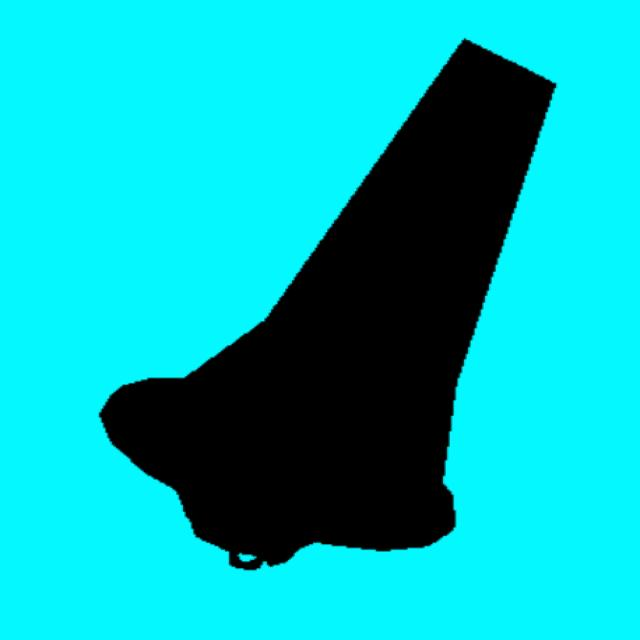BlackBuoy: (101, 41, 555, 568)
